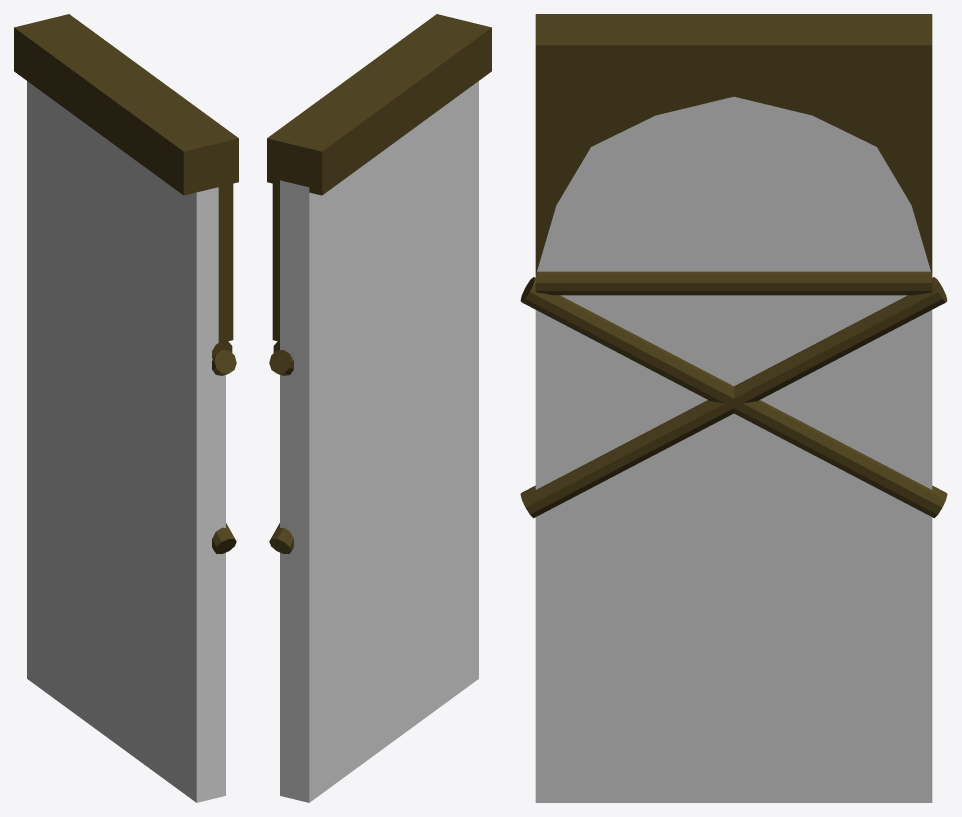
File: Wall1.fbx
3 renders of one model, left to right at view 1: azimuth 30°, elevation 25°; view 2: azimuth 150°, elevation 25°; view 3: azimuth 270°, elevation 25°, orthographic. The views are drawn at different scales.
Visible parts, largest first — view 1: Cube, Cube.003, Cube.001, Cylinder.002, Cylinder.001; view 2: Cube, Cube.003, Cube.002, Cylinder.001, Cylinder.002; view 3: Cube, Cube.003, Cylinder.002, Cylinder.001, Cylinder, Cube.002, Cube.001.
Boxes of the visible parts, x1,y1,x2,y2 form: Cube: (27, 81, 225, 802); Cube.003: (14, 14, 238, 195); Cube.001: (218, 183, 233, 343); Cylinder.002: (212, 350, 236, 375); Cylinder.001: (212, 523, 236, 553); Cube: (280, 81, 478, 802); Cube.003: (267, 14, 491, 195); Cube.002: (272, 179, 279, 341); Cylinder.001: (269, 350, 293, 375); Cylinder.002: (269, 523, 293, 553); Cube: (535, 96, 932, 802); Cube.003: (535, 14, 932, 96); Cylinder.002: (520, 277, 947, 518); Cylinder.001: (520, 277, 947, 518); Cylinder: (535, 271, 932, 295); Cube.002: (735, 96, 932, 274); Cube.001: (535, 96, 732, 274).
Bounding box in the file's own units: 37.5 × 425 × 215.
